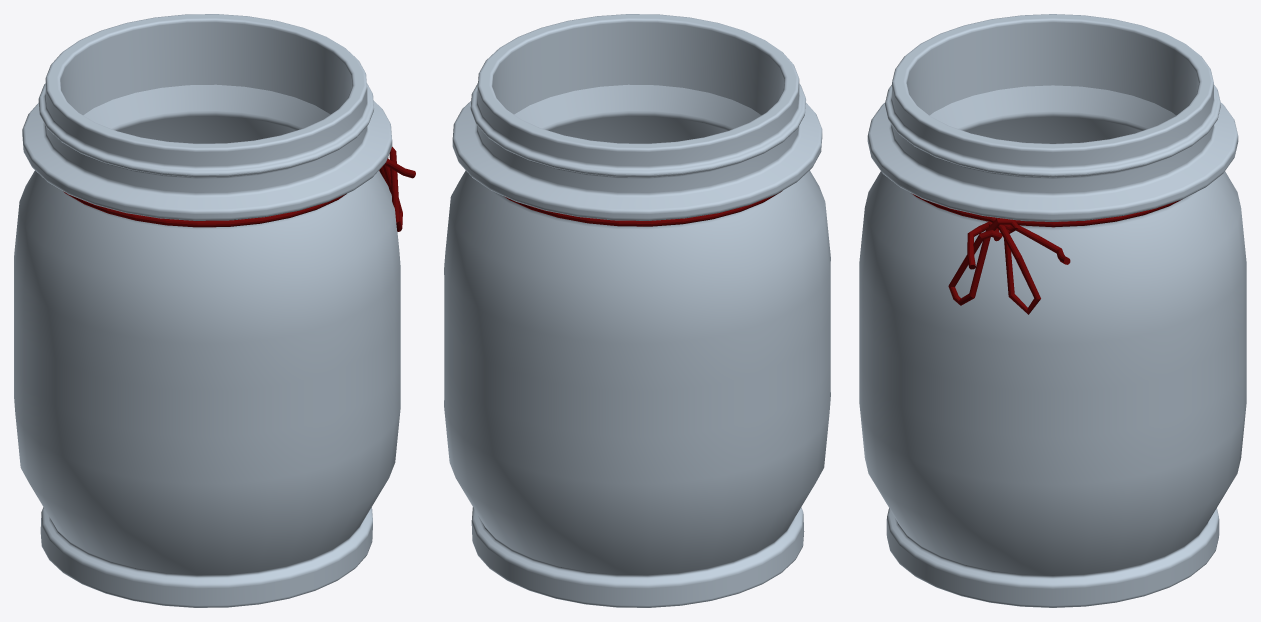
Rendered from potion_optimized.glb.
The picture shows the model from 3 angles, left to right: view 1: azimuth 30°, elevation 25°; view 2: azimuth 150°, elevation 25°; view 3: azimuth 270°, elevation 25°; orthographic projection.
Visible parts, largest first — view 1: jar.002, jar_Curve.003; view 2: jar.002, jar_Curve.003; view 3: jar.002, jar_Curve.003.
Part boxes in pixels (x1=…): jar.002: x1=14, y1=14, x2=400, y2=607; jar_Curve.003: x1=63, y1=147, x2=415, y2=231; jar.002: x1=444, y1=14, x2=830, y2=607; jar_Curve.003: x1=504, y1=191, x2=781, y2=226; jar.002: x1=859, y1=14, x2=1246, y2=607; jar_Curve.003: x1=913, y1=194, x2=1182, y2=314.
Size of the model in its own units: 0.5146 by 0.6513 by 0.5003.
